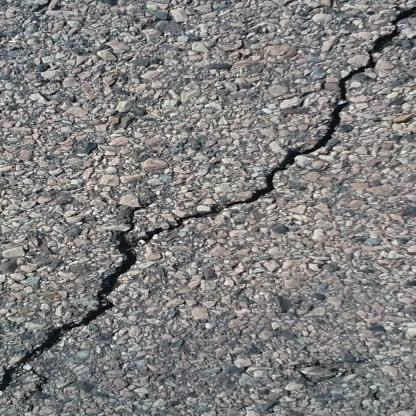Cracks: (152, 0, 416, 235), (0, 236, 146, 416)
